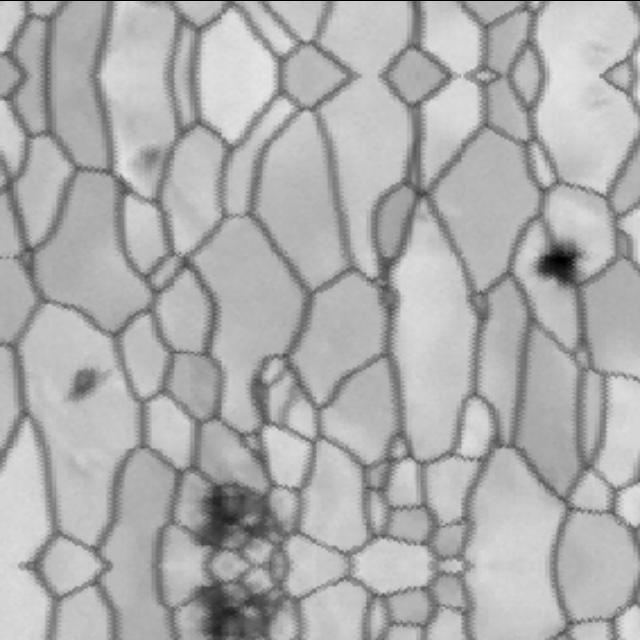good_void: (192, 470, 301, 566), (192, 566, 301, 640), (531, 236, 594, 294), (57, 358, 116, 408), (132, 135, 164, 176), (135, 0, 164, 16)
